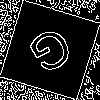G: (25, 25, 81, 84)
